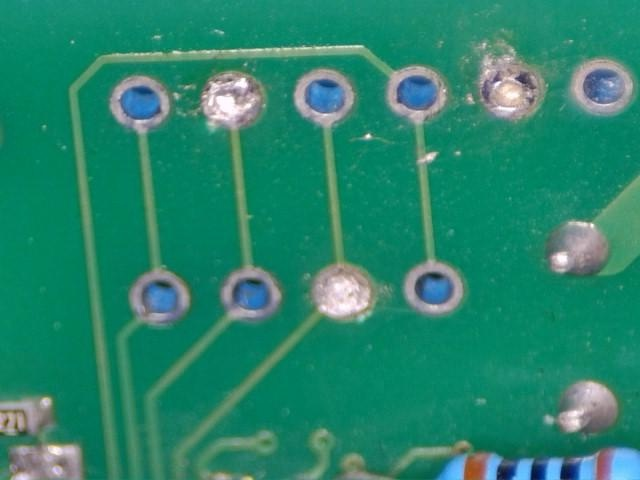pcb_defect: (202, 72, 262, 129), (311, 268, 370, 318), (480, 68, 539, 118)
